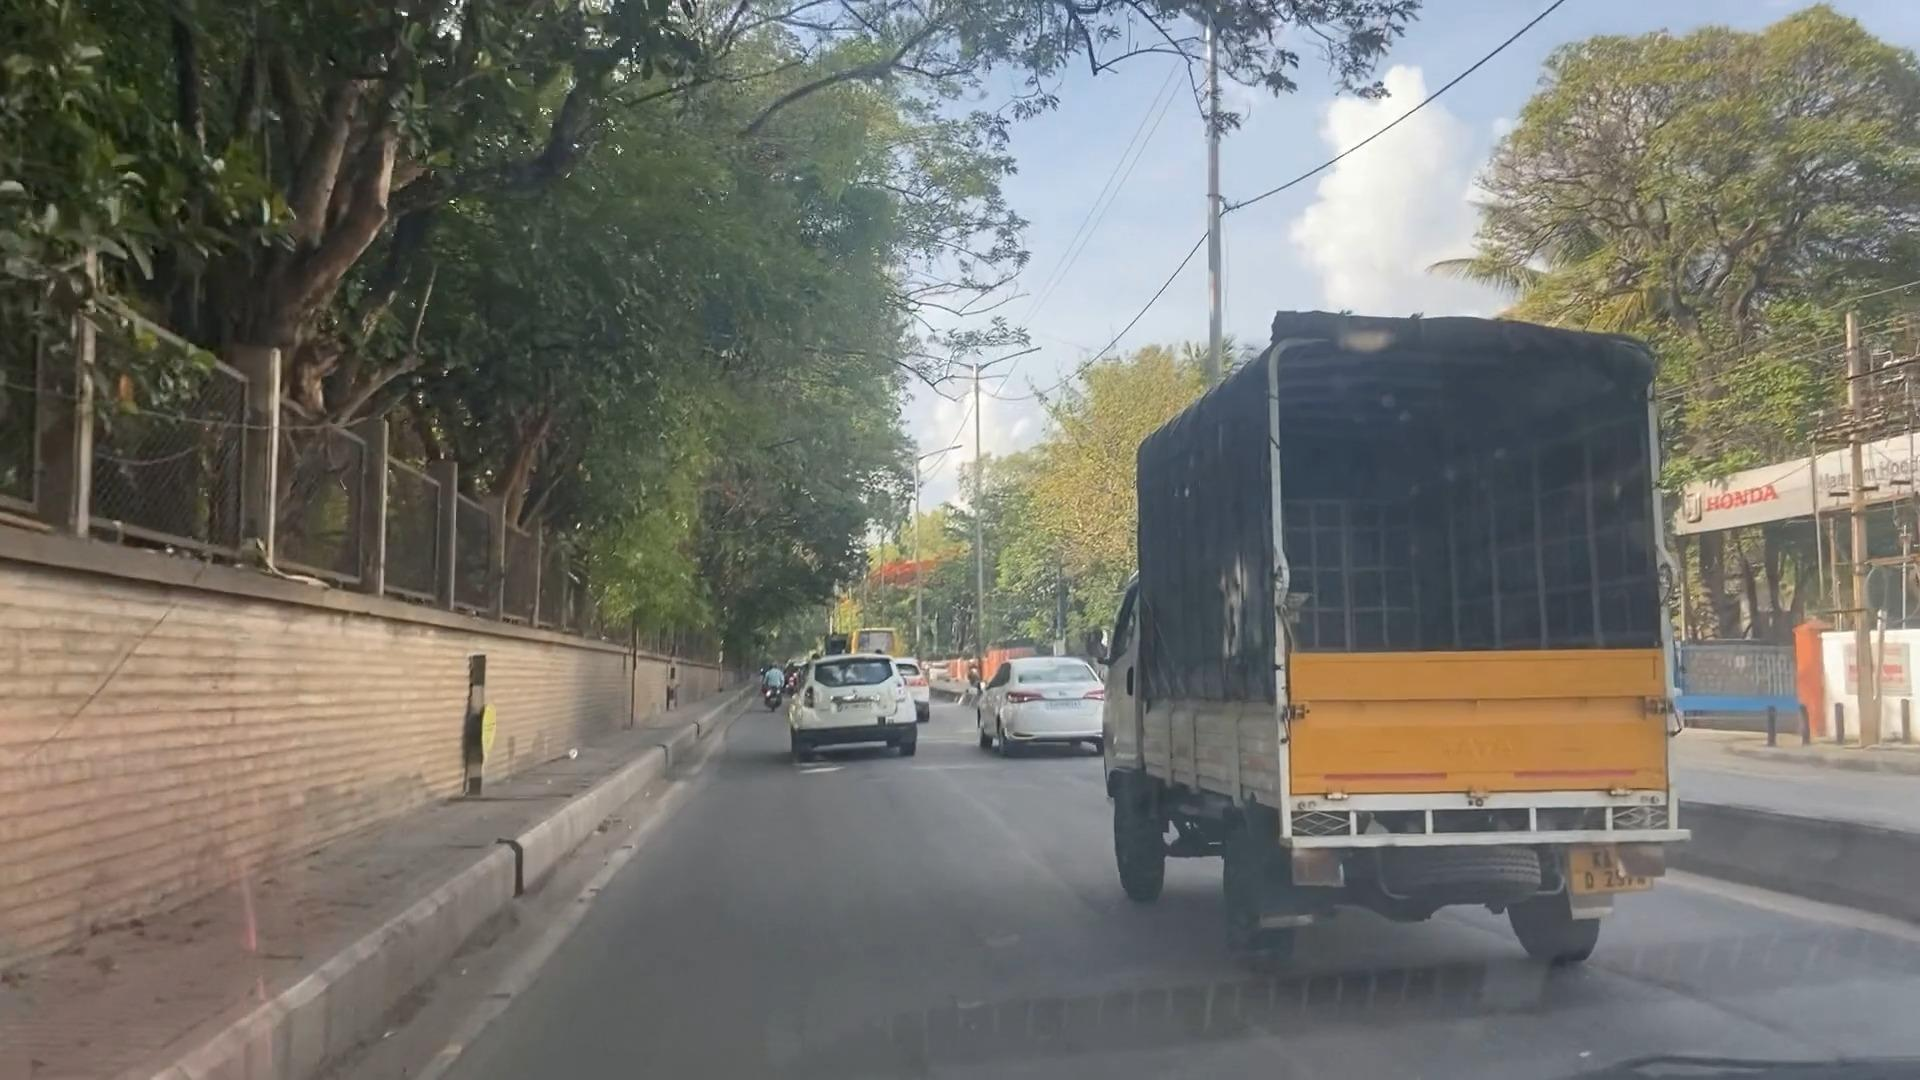HMV: (1083, 314, 1644, 981)
LMV: (782, 645, 919, 764)
